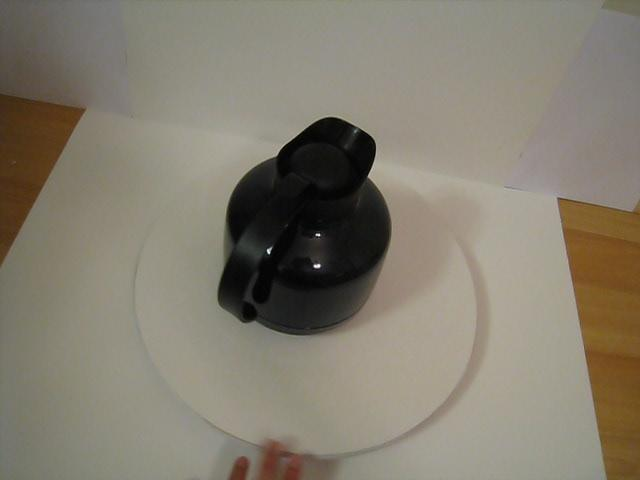pitcher: (210, 120, 402, 346)
